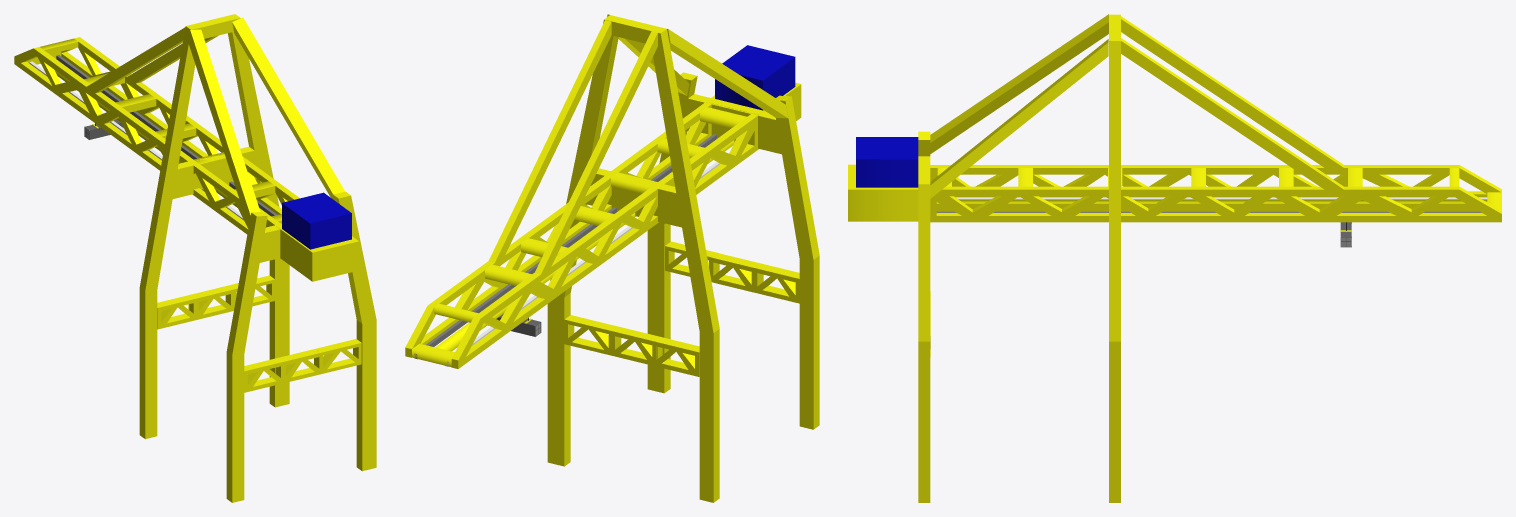
The model's file is freecrane.obj.
3 views of the same model, side by side, from view 1: azimuth 30°, elevation 25°; view 2: azimuth 150°, elevation 25°; view 3: azimuth 270°, elevation 25° (orthographic). The views are drawn at different scales.
Visible parts, largest first — view 1: polySurface557 polySurface367 polySurface315 polySurface309 poly, polySurface558, polySurface316, pasted__polySurface310 group, polySurface310, pasted__pasted__polySurface310 pasted__group group1; view 2: polySurface557 polySurface367 polySurface315 polySurface309 poly, polySurface558, polySurface310, pasted__pasted__polySurface310 pasted__group group1, pasted__polySurface310 group, polySurface316; view 3: polySurface558, polySurface557 polySurface367 polySurface315 polySurface309 poly, polySurface316.
Part boxes in pixels (bbox=[...]): polySurface557 polySurface367 polySurface315 polySurface309 poly: bbox=[84, 14, 376, 502]; polySurface558: bbox=[14, 37, 299, 234]; polySurface316: bbox=[276, 224, 358, 281]; pasted__polySurface310 group: bbox=[188, 285, 234, 320]; polySurface310: bbox=[244, 357, 284, 392]; pasted__pasted__polySurface310 pasted__group group1: bbox=[279, 349, 319, 383]; polySurface557 polySurface367 polySurface315 polySurface309 poly: bbox=[488, 14, 819, 502]; polySurface558: bbox=[405, 102, 758, 368]; polySurface310: bbox=[753, 263, 799, 303]; pasted__pasted__polySurface310 pasted__group group1: bbox=[709, 253, 758, 292]; pasted__polySurface310 group: bbox=[611, 326, 663, 365]; polySurface316: bbox=[706, 82, 801, 120]; polySurface558: bbox=[928, 165, 1501, 222]; polySurface557 polySurface367 polySurface315 polySurface309 poly: bbox=[856, 14, 1351, 502]; polySurface316: bbox=[848, 164, 928, 221].
Bounding box in the file's own units: 3.89 × 10.25 × 13.93.
